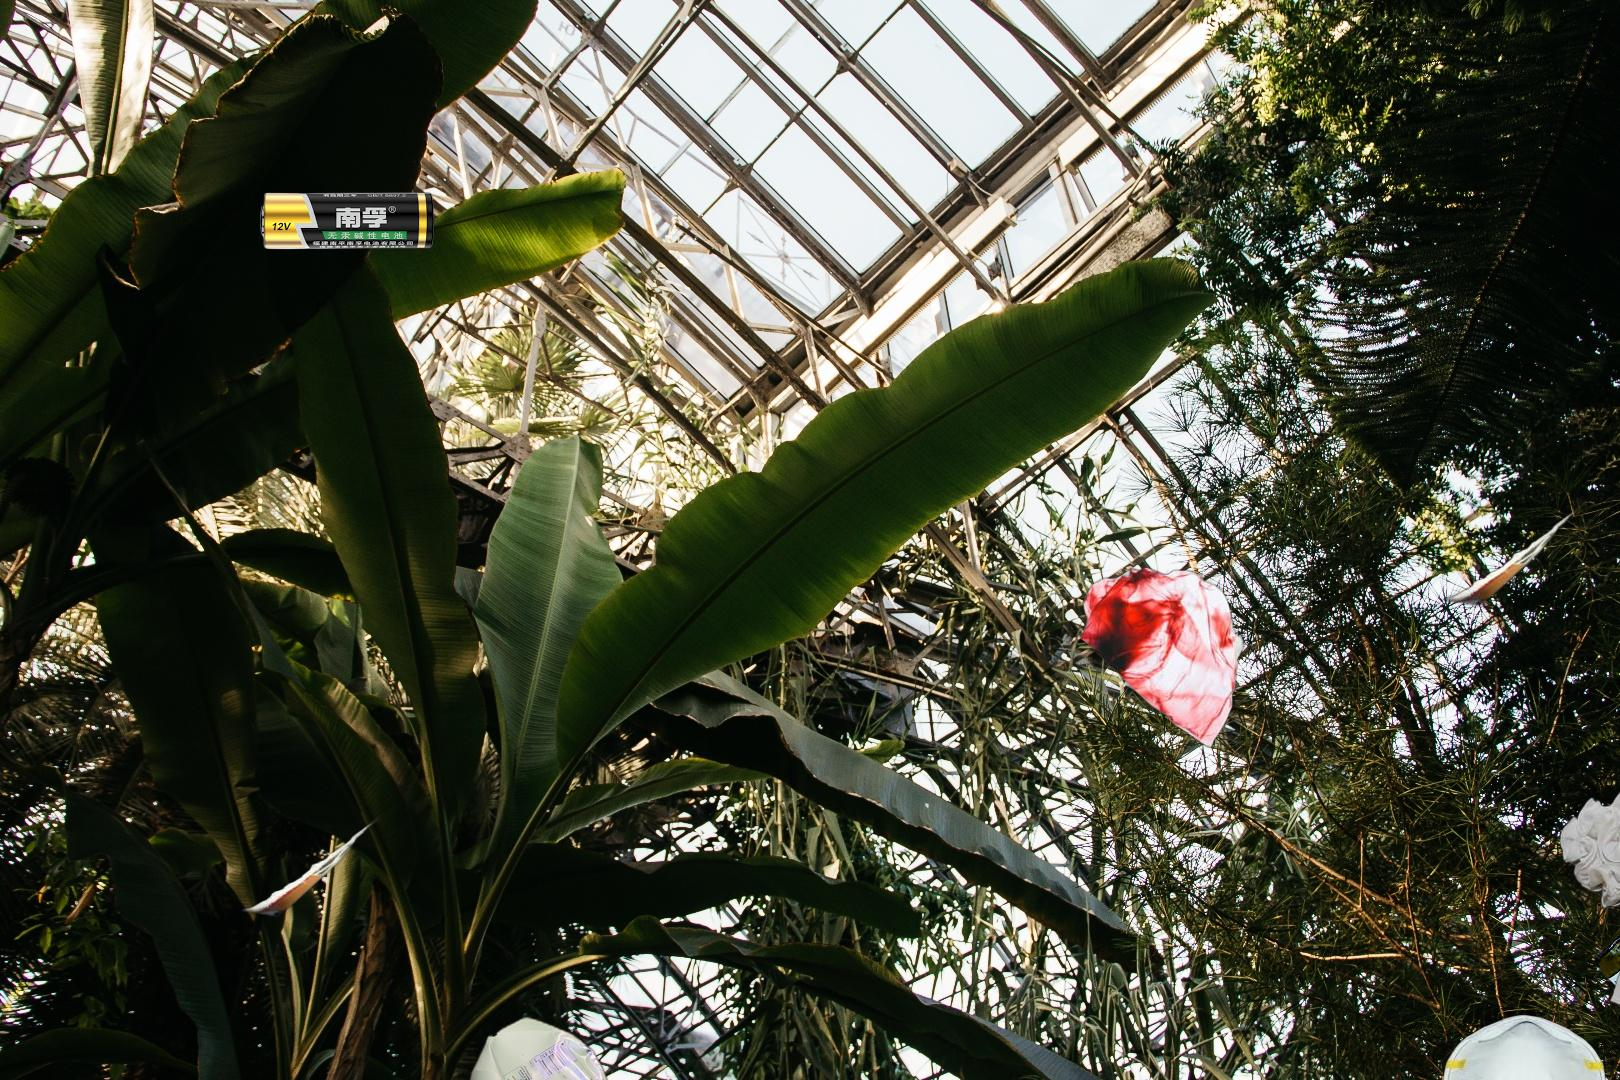battery: (259, 190, 435, 252)
clothes: (1559, 718, 1620, 1016)
glass: (1591, 902, 1620, 1080)
metal-cans: (459, 1010, 616, 1080)
paper: (230, 724, 489, 920), (1432, 413, 1620, 609)
plastic-bag: (1076, 515, 1276, 751)
trash: (1440, 1012, 1609, 1080)
